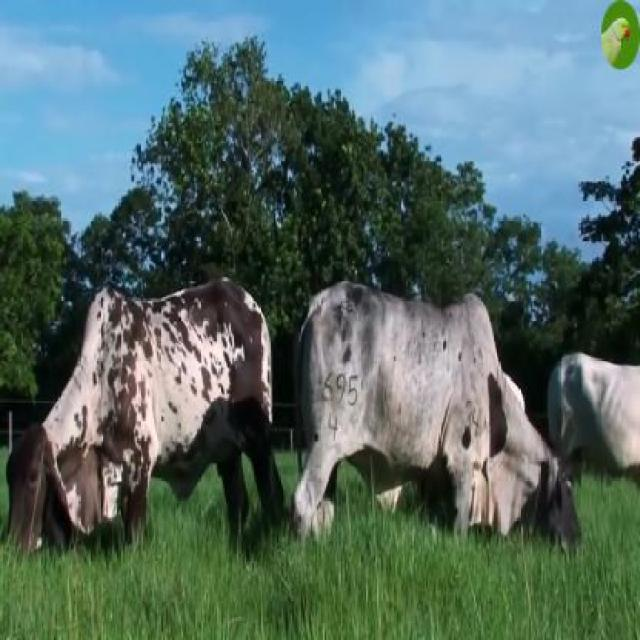Cow: (3, 277, 272, 580), (294, 286, 558, 572)
